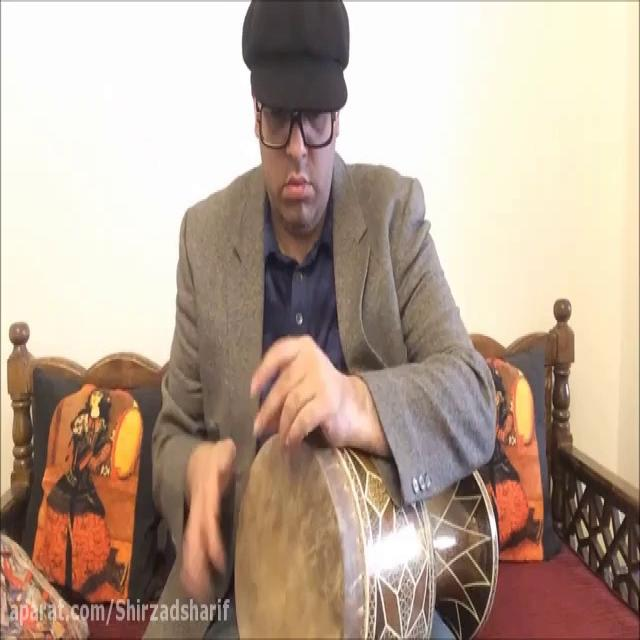Tombak: (225, 424, 502, 636)
